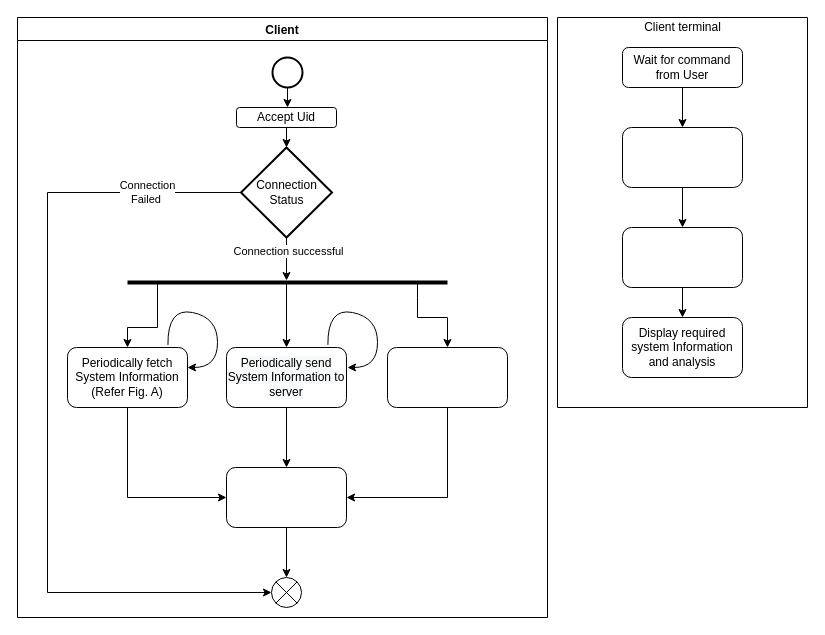
Image size: 825x635. Some labels were removed from this diagram. Here are the shapes that lost their labels. From the top down, the centre of each, then its label:
(x=682, y=157): Send command to server
(x=682, y=257): Receive system information from server as per command
(x=447, y=377): User in menu (Refer 'Client Terminal')
(x=286, y=497): Client closes connection
